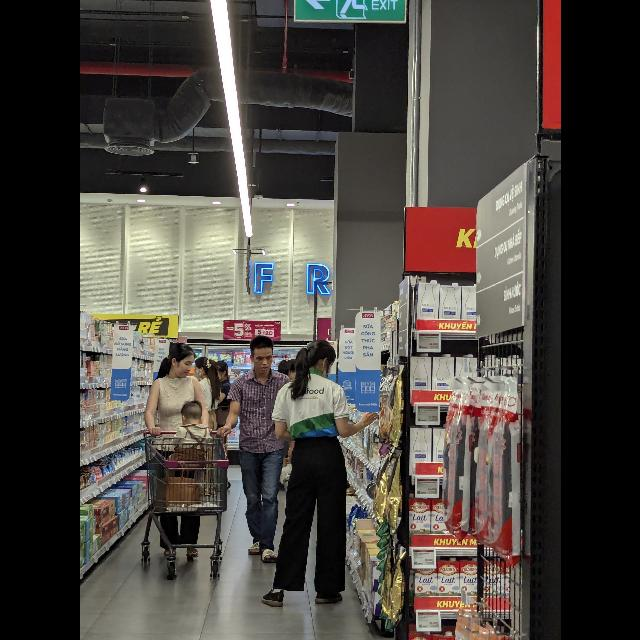exit: (294, 1, 401, 23)
